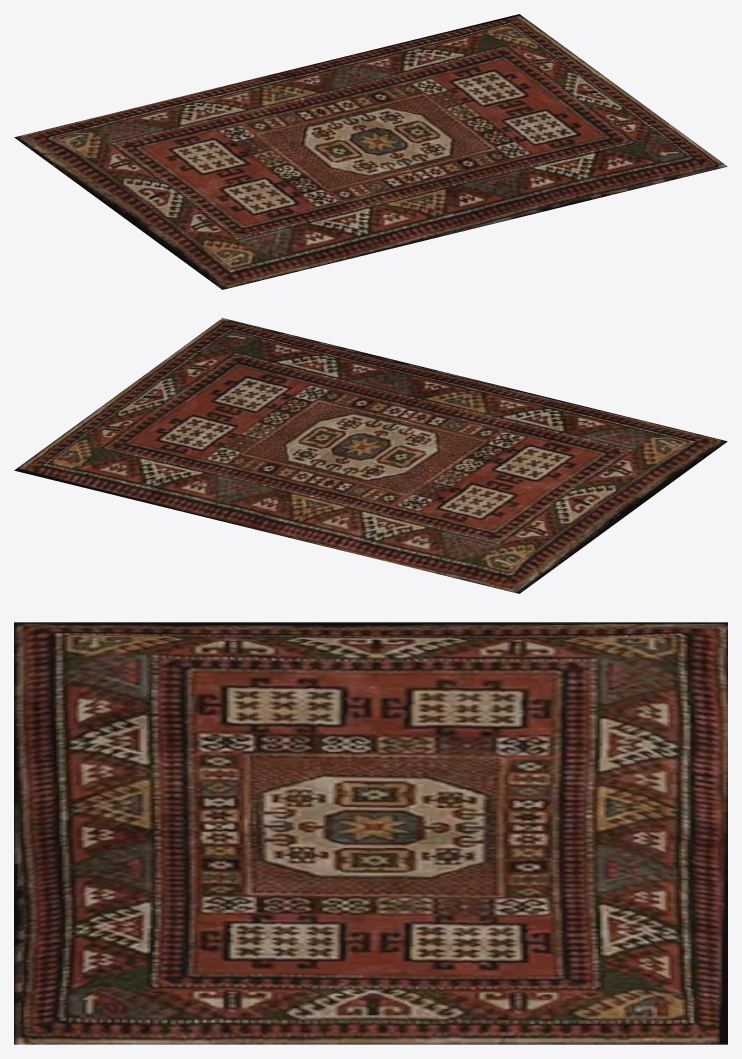
Rendered from NW_CITY_CARPET_01.glb.
The picture shows the model from 3 angles, top to bottom: view 1: azimuth 30°, elevation 25°; view 2: azimuth 150°, elevation 25°; view 3: azimuth 270°, elevation 25°; orthographic projection. The views are drawn at different scales.
Parts seen in each view (by area): view 1: Mesh; view 2: Mesh; view 3: Mesh.
Boxes of the visible parts, <box> form: Mesh: <box>14,14,727,289</box>; Mesh: <box>14,318,727,593</box>; Mesh: <box>14,622,727,1044</box>.
Size of the model in its own units: 3.5 by 0.05 by 2.5.
1 material, 1 textured.
